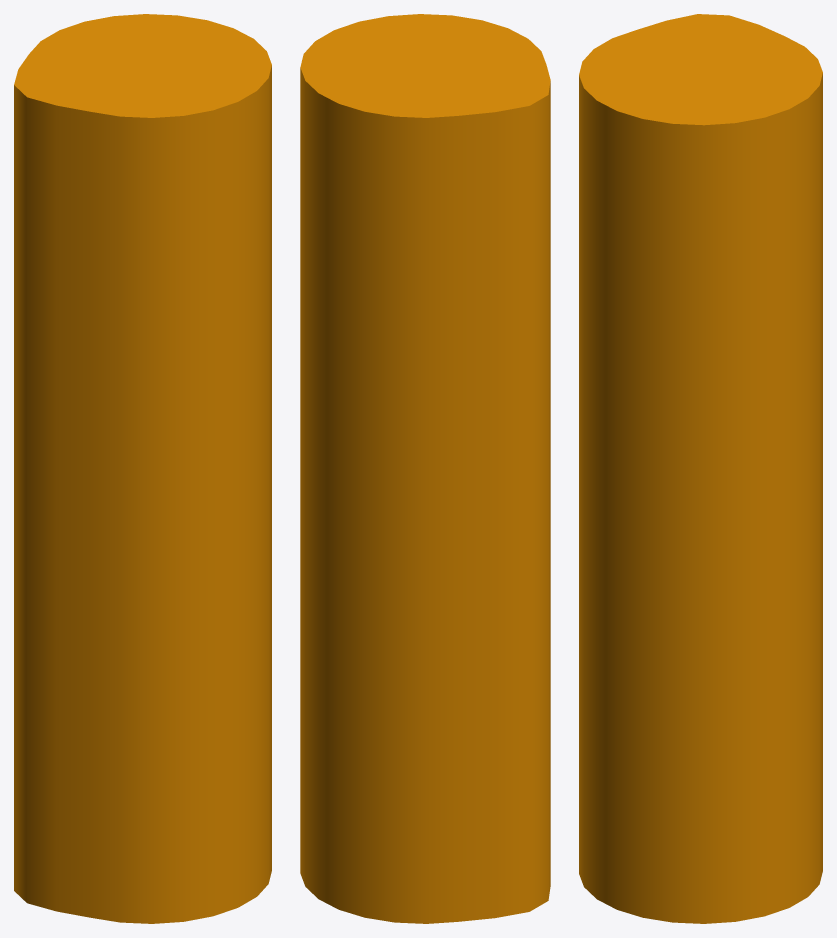
The model's file is GlassJugSlimLiquid.fbx.
The picture shows the model from 3 angles, left to right: view 1: azimuth 30°, elevation 25°; view 2: azimuth 150°, elevation 25°; view 3: azimuth 270°, elevation 25°; orthographic projection.
Parts seen in each view (by area): view 1: GlassJugSlimLiquid; view 2: GlassJugSlimLiquid; view 3: GlassJugSlimLiquid.
Part boxes in pixels (box(x1,y1,x2,y2)): GlassJugSlimLiquid: box(14, 14, 271, 923); GlassJugSlimLiquid: box(300, 14, 550, 923); GlassJugSlimLiquid: box(579, 14, 822, 923).
Size of the model in its own units: 258 by 864 by 239.
